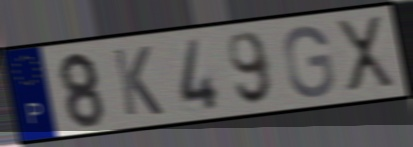4: (177, 37, 222, 113)
8: (55, 47, 106, 130)
9: (226, 30, 277, 106)
G: (281, 23, 337, 101)
K: (110, 43, 166, 118)
X: (332, 13, 399, 94)
